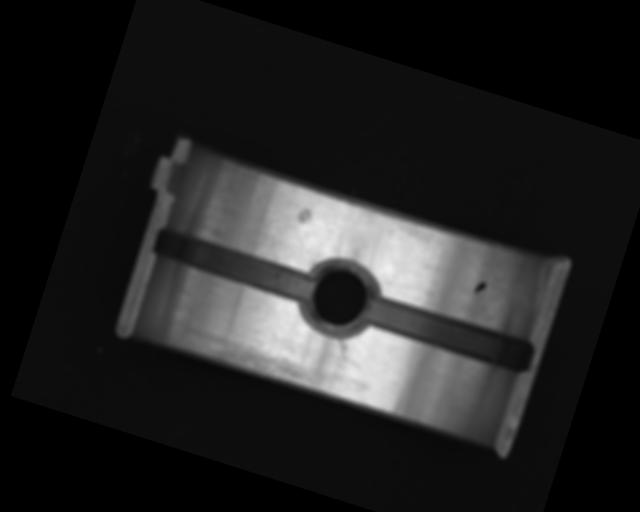blot: (472, 278, 488, 296)
bruise: (293, 205, 315, 226)
gap: (359, 290, 537, 377), (149, 224, 317, 304)
hole: (293, 251, 382, 345)
nick: (332, 336, 352, 362)
scratch: (168, 320, 320, 394)
